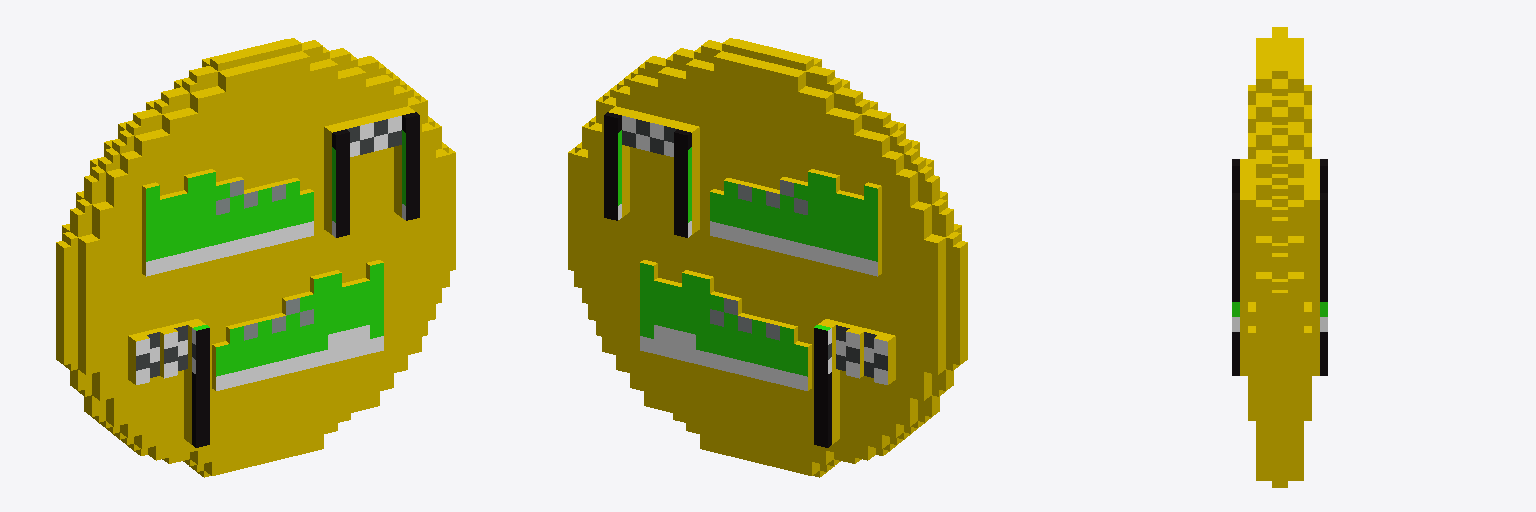
3 renders of one model, left to right at view 1: azimuth 30°, elevation 25°; view 2: azimuth 150°, elevation 25°; view 3: azimuth 270°, elevation 25°, orthographic.
Size of the model in its own units: 28 by 28 by 6.
1 materials, 1 textured.